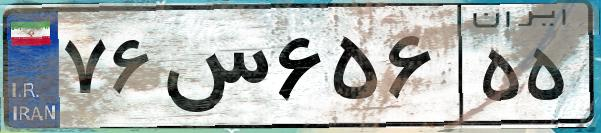5: (330, 28, 385, 110), (475, 38, 525, 113), (525, 38, 570, 115)
6: (270, 28, 330, 110), (385, 28, 445, 110), (110, 28, 158, 98)
7: (57, 26, 110, 100)
س: (158, 20, 270, 120)
